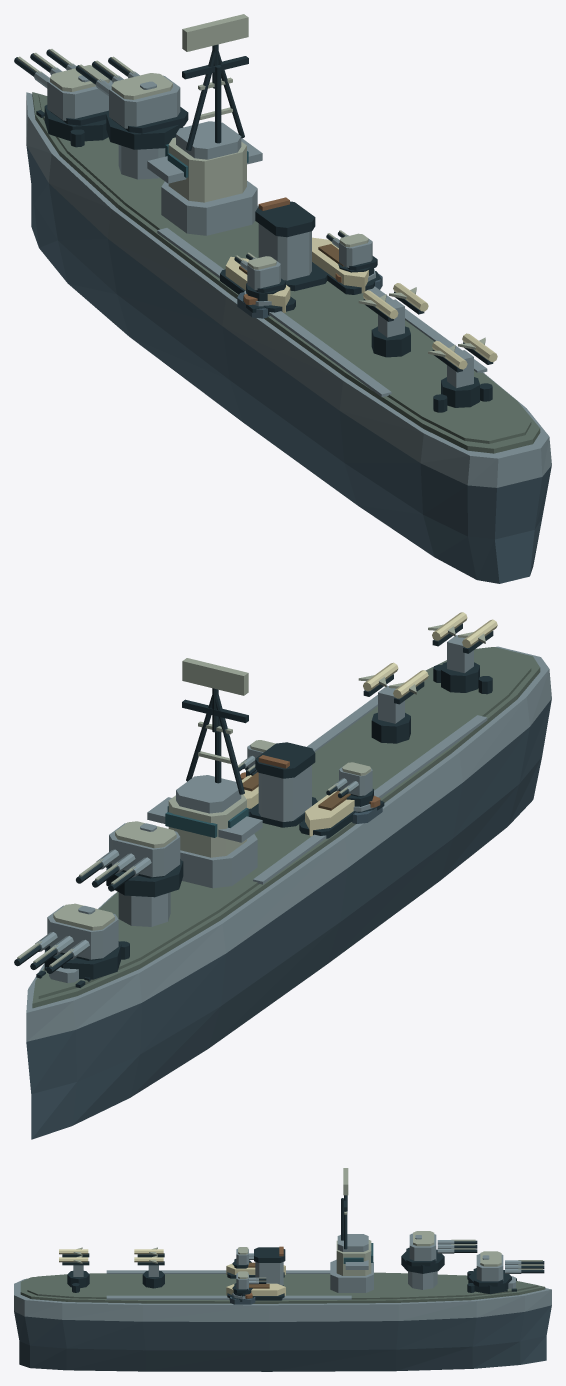
Rendered from historic-boston.glb.
3 views of the same model, one above another, from view 1: azimuth 30°, elevation 25°; view 2: azimuth 150°, elevation 25°; view 3: azimuth 270°, elevation 25° (orthographic). The views are drawn at different scales.
Parts seen in each view (by area): view 1: historic-boston-historic-boston-geometry, historic-boston-part_bridge.106-geometry, historic-boston-turret_main_1.073-geometry, historic-boston-turret_main_0.077-geometry, historic-boston-historic_funnel_0.104-geometry, historic-boston-naval_launcher_0-geometry, historic-boston-naval_launcher_1-geometry, historic-boston-turret_aa_aa-port.108-geometry, historic-boston-turret_aa_aa-starboard.104-geometry; view 2: historic-boston-historic-boston-geometry, historic-boston-part_bridge.106-geometry, historic-boston-turret_main_1.073-geometry, historic-boston-turret_main_0.077-geometry, historic-boston-historic_funnel_0.104-geometry, historic-boston-naval_launcher_0-geometry, historic-boston-naval_launcher_1-geometry, historic-boston-turret_aa_aa-port.108-geometry; view 3: historic-boston-historic-boston-geometry, historic-boston-part_bridge.106-geometry, historic-boston-turret_main_1.073-geometry, historic-boston-turret_main_0.077-geometry, historic-boston-historic_funnel_0.104-geometry, historic-boston-naval_launcher_0-geometry, historic-boston-naval_launcher_1-geometry, historic-boston-turret_aa_aa-starboard.104-geometry, historic-boston-turret_aa_aa-port.108-geometry.
Boxes of the visible parts, x1,y1,x2,y2 form: historic-boston-historic-boston-geometry: (26, 92, 551, 583); historic-boston-part_bridge.106-geometry: (147, 14, 262, 235); historic-boston-turret_main_1.073-geometry: (75, 56, 188, 149); historic-boston-turret_main_0.077-geometry: (14, 49, 112, 141); historic-boston-historic_funnel_0.104-geometry: (255, 197, 327, 291); historic-boston-naval_launcher_0-geometry: (358, 283, 428, 357); historic-boston-naval_launcher_1-geometry: (428, 333, 497, 407); historic-boston-turret_aa_aa-port.108-geometry: (234, 252, 285, 301); historic-boston-turret_aa_aa-starboard.104-geometry: (326, 230, 377, 275); historic-boston-historic-boston-geometry: (26, 646, 551, 1139); historic-boston-part_bridge.106-geometry: (147, 658, 262, 888); historic-boston-turret_main_1.073-geometry: (76, 821, 183, 897); historic-boston-turret_main_0.077-geometry: (14, 903, 121, 979); historic-boston-historic_funnel_0.104-geometry: (249, 742, 317, 827); historic-boston-naval_launcher_0-geometry: (358, 662, 428, 743); historic-boston-naval_launcher_1-geometry: (428, 612, 497, 692); historic-boston-turret_aa_aa-port.108-geometry: (326, 762, 373, 806); historic-boston-historic-boston-geometry: (14, 1262, 551, 1371); historic-boston-part_bridge.106-geometry: (330, 1168, 373, 1292); historic-boston-turret_main_1.073-geometry: (401, 1231, 477, 1273); historic-boston-turret_main_0.077-geometry: (468, 1251, 544, 1294); historic-boston-historic_funnel_0.104-geometry: (252, 1246, 285, 1285); historic-boston-naval_launcher_0-geometry: (134, 1247, 164, 1288); historic-boston-naval_launcher_1-geometry: (59, 1247, 89, 1288); historic-boston-turret_aa_aa-starboard.104-geometry: (232, 1271, 266, 1296); historic-boston-turret_aa_aa-port.108-geometry: (232, 1247, 253, 1268).
Bounding box in the file's own units: 0.6721 × 1.63 × 4.32.
